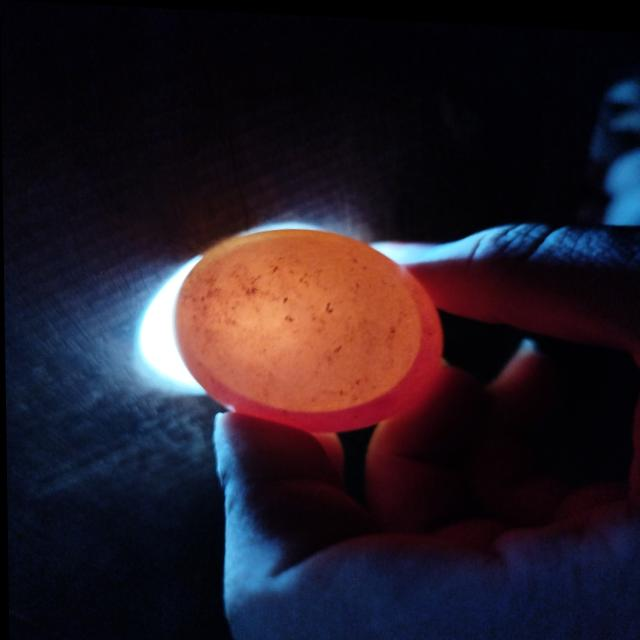Camara de Ar: (182, 236, 420, 409)
Gema Quebrada: (206, 268, 440, 430)
